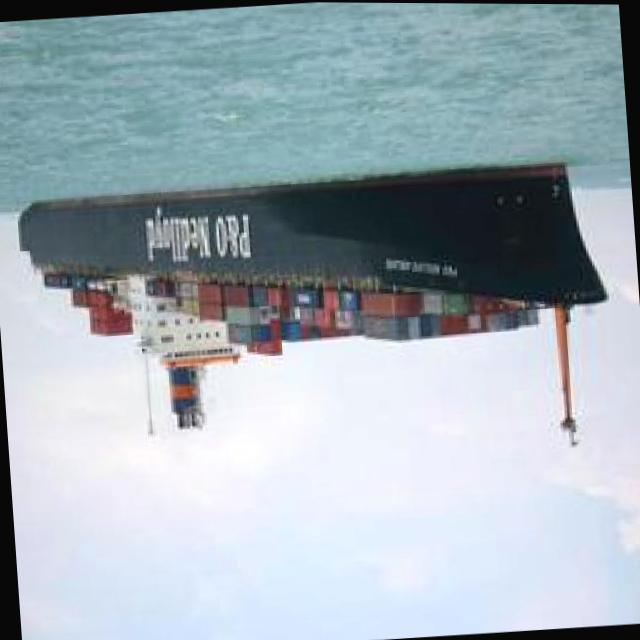ship2: (16, 161, 609, 446)
